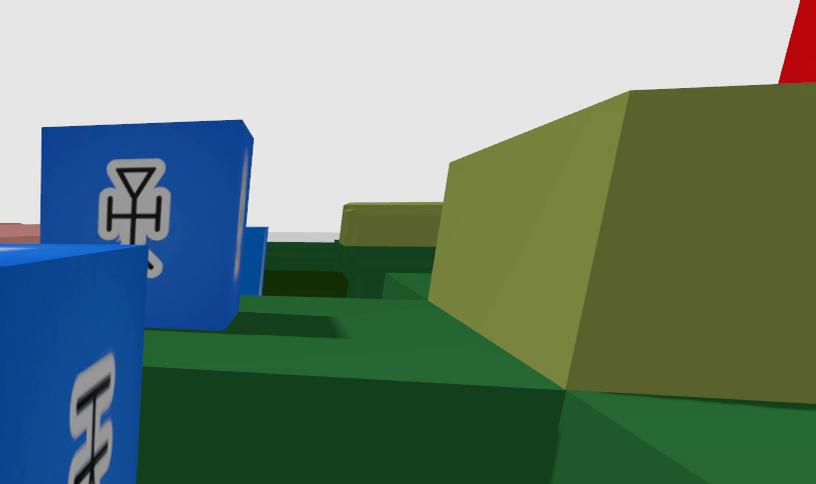KFS_FAKE: (41, 120, 253, 328)
KFS_REAL: (41, 121, 263, 329), (0, 245, 146, 484), (98, 159, 172, 244), (69, 352, 115, 484)
